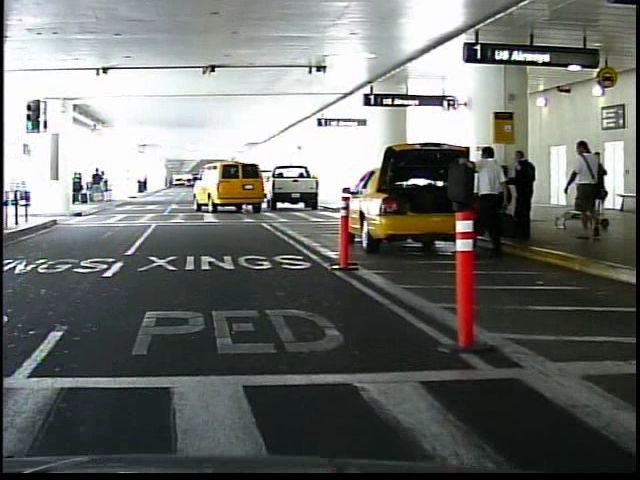person: (561, 138, 605, 240)
